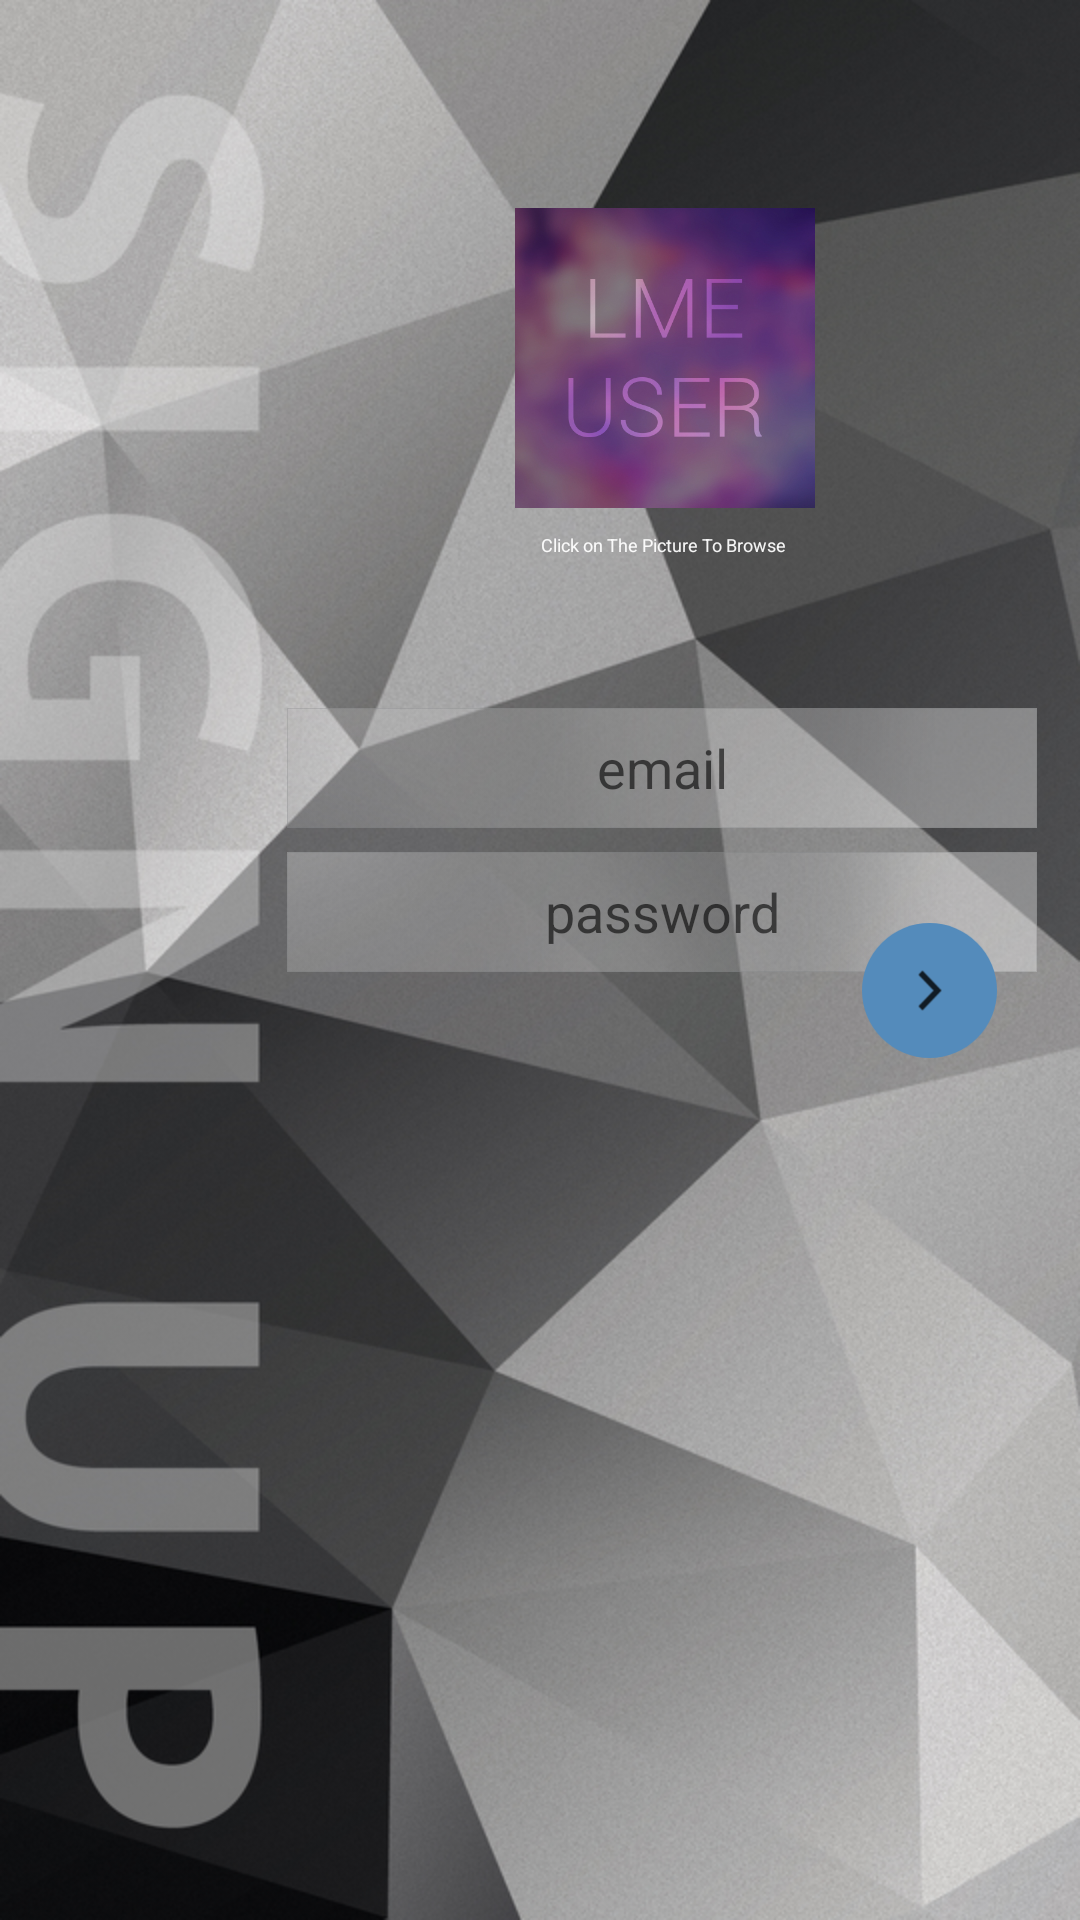

Icon click points for this 1080×1920 phone screenshot, format (x,y):
stduserpic: (665,358)
